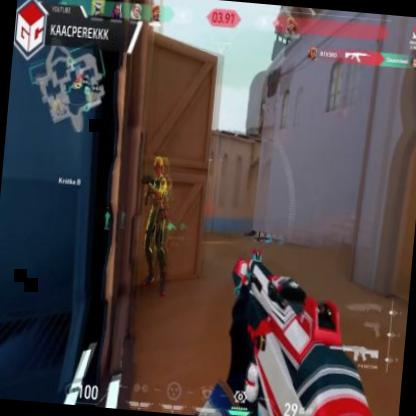enemy: (136, 157, 176, 295)
enemy_head: (152, 158, 166, 178)
